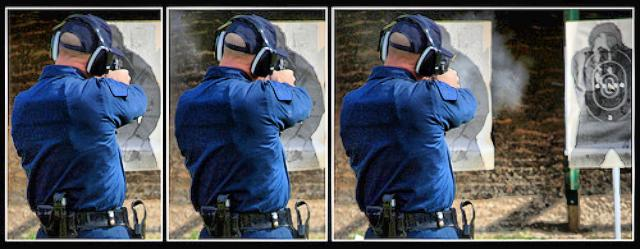pistol: (270, 52, 284, 72), (107, 56, 119, 70)
